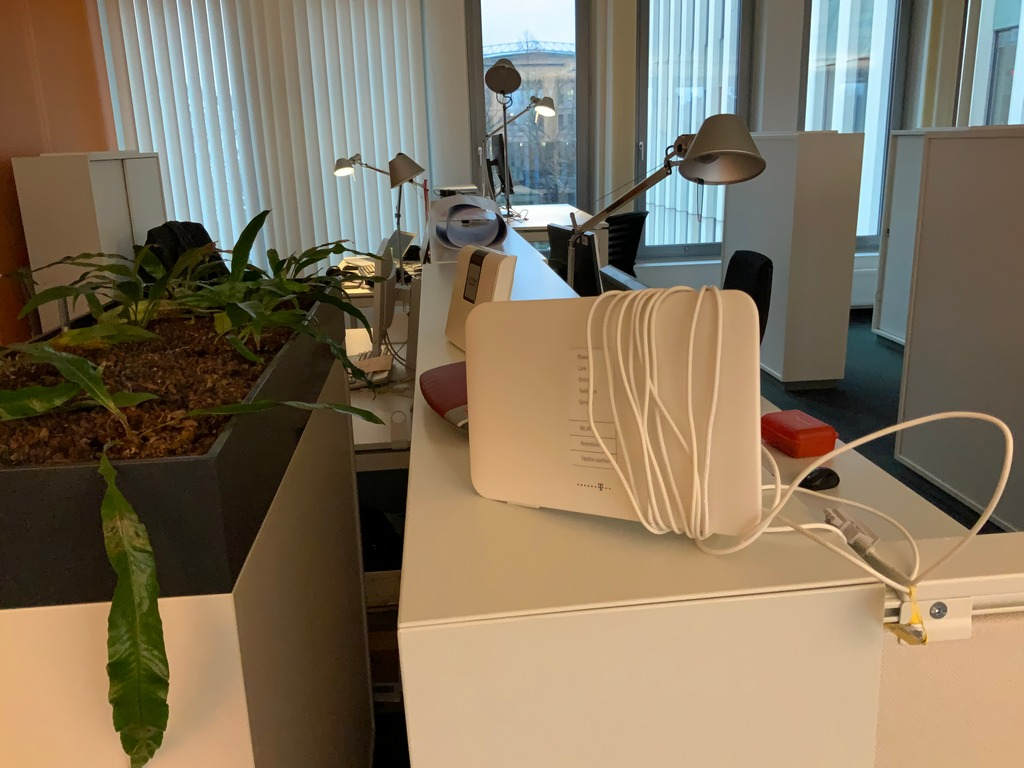router: (463, 285, 765, 539)
